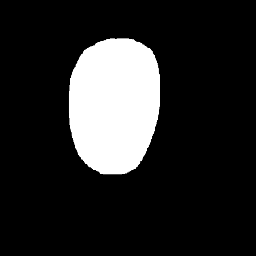mass: (67, 41, 162, 167)
